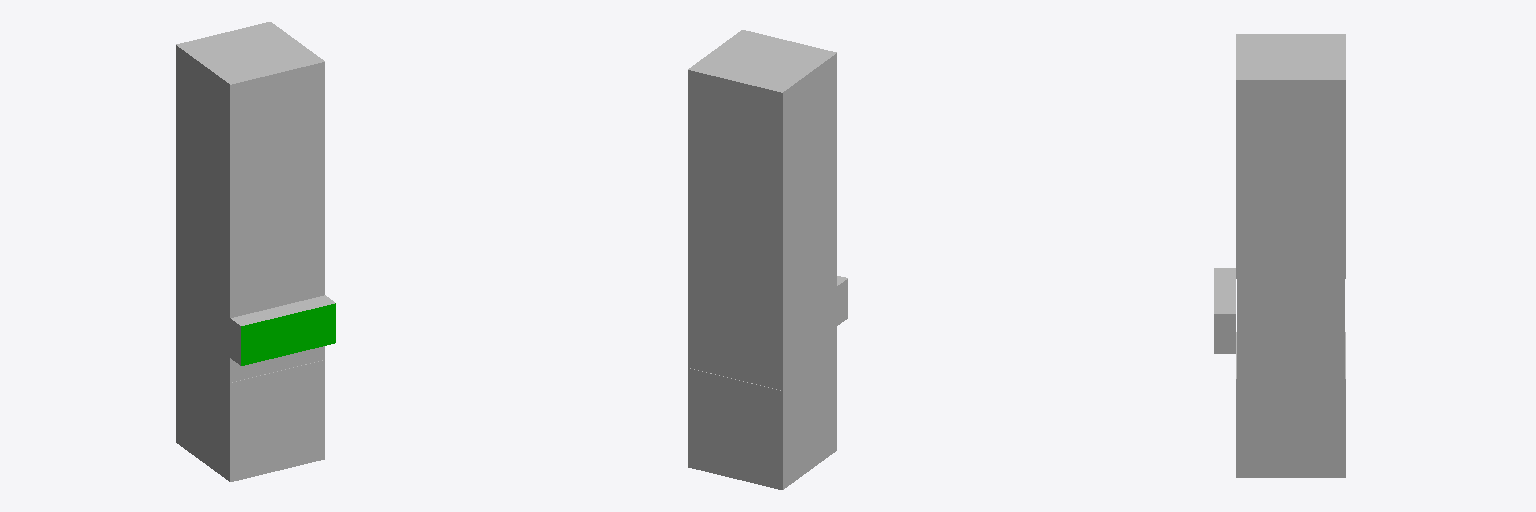
The model's file is ville.obj.
The picture shows the model from 3 angles: view 1: azimuth 30°, elevation 25°; view 2: azimuth 150°, elevation 25°; view 3: azimuth 270°, elevation 25°; orthographic projection.
Visible parts, largest first — view 1: Cube.005, Cube.008, Cube.006, Cube.009, Cube.010; view 2: Cube.005, Cube.008, Cube.006, Cube.009; view 3: Cube.005, Cube.008, Cube.006, Cube.009, Cube.010.
Part boxes in pixels (bbox=[...]): Cube.005: bbox=[176, 22, 324, 183]; Cube.008: bbox=[176, 344, 324, 481]; Cube.006: bbox=[176, 145, 324, 283]; Cube.009: bbox=[176, 244, 324, 382]; Cube.010: bbox=[230, 295, 335, 365]; Cube.005: bbox=[688, 30, 836, 191]; Cube.008: bbox=[688, 352, 836, 489]; Cube.006: bbox=[688, 153, 836, 291]; Cube.009: bbox=[688, 252, 836, 390]; Cube.005: bbox=[1236, 34, 1345, 179]; Cube.008: bbox=[1236, 332, 1345, 477]; Cube.006: bbox=[1236, 180, 1345, 278]; Cube.009: bbox=[1237, 279, 1344, 378]; Cube.010: bbox=[1214, 268, 1235, 353].
Bounding box in the file's own units: 2 × 8 × 2.4.